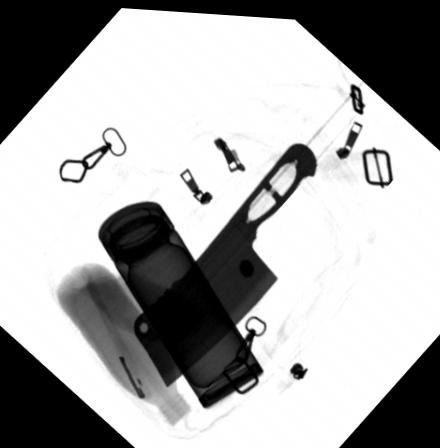Knife: (132, 136, 318, 386)
